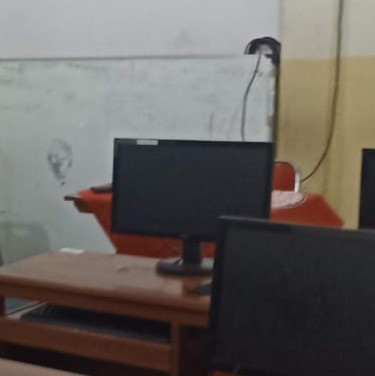monitor: (202, 215, 374, 372), (110, 138, 274, 242)
